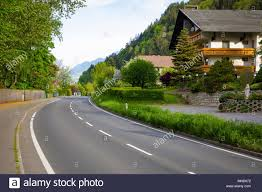strada: (0, 97, 253, 184)
